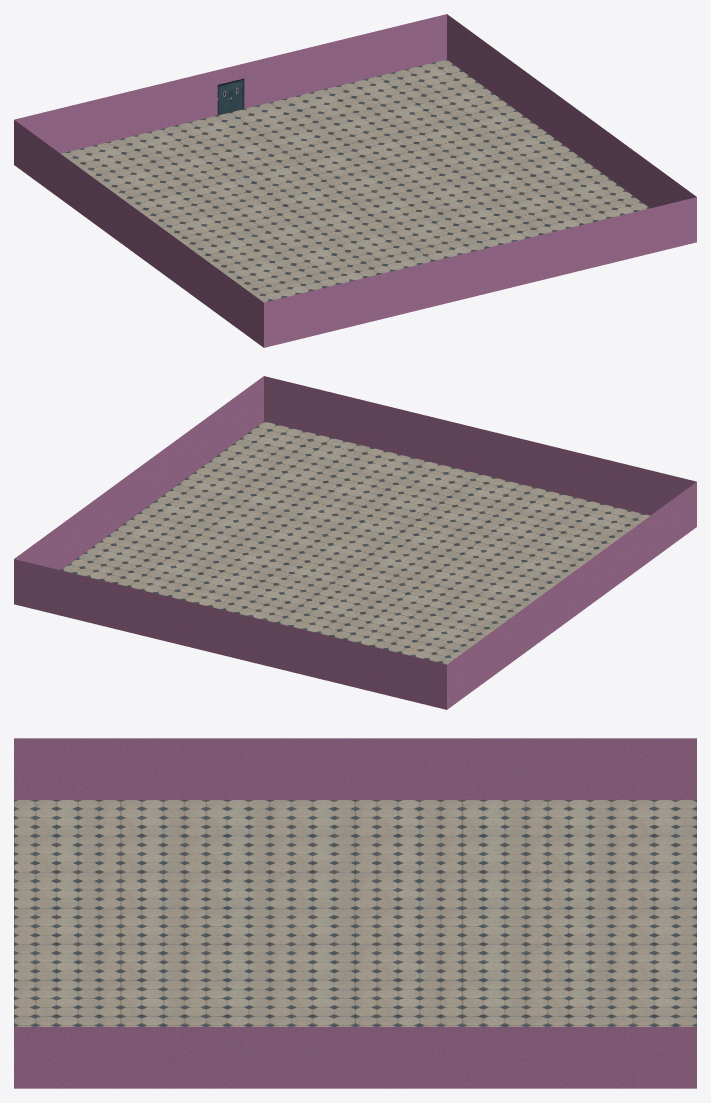
Rendered from map.obj.
The picture shows the model from 3 angles, top to bottom: view 1: azimuth 30°, elevation 25°; view 2: azimuth 150°, elevation 25°; view 3: azimuth 270°, elevation 25°; orthographic projection. The views are drawn at different scales.
Visible parts, largest first — view 1: Cube_Cube.001; view 2: Cube_Cube.001; view 3: Cube_Cube.001.
Boxes of the visible parts, left/top/right/bottom form: Cube_Cube.001: left=14, top=14, right=696, bottom=347; Cube_Cube.001: left=14, top=376, right=696, bottom=709; Cube_Cube.001: left=14, top=738, right=696, bottom=1088.
Size of the model in its own units: 160 by 16.13 by 160.
